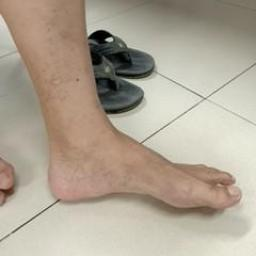Medial View -Left Foot-: (30, 114, 251, 234)
